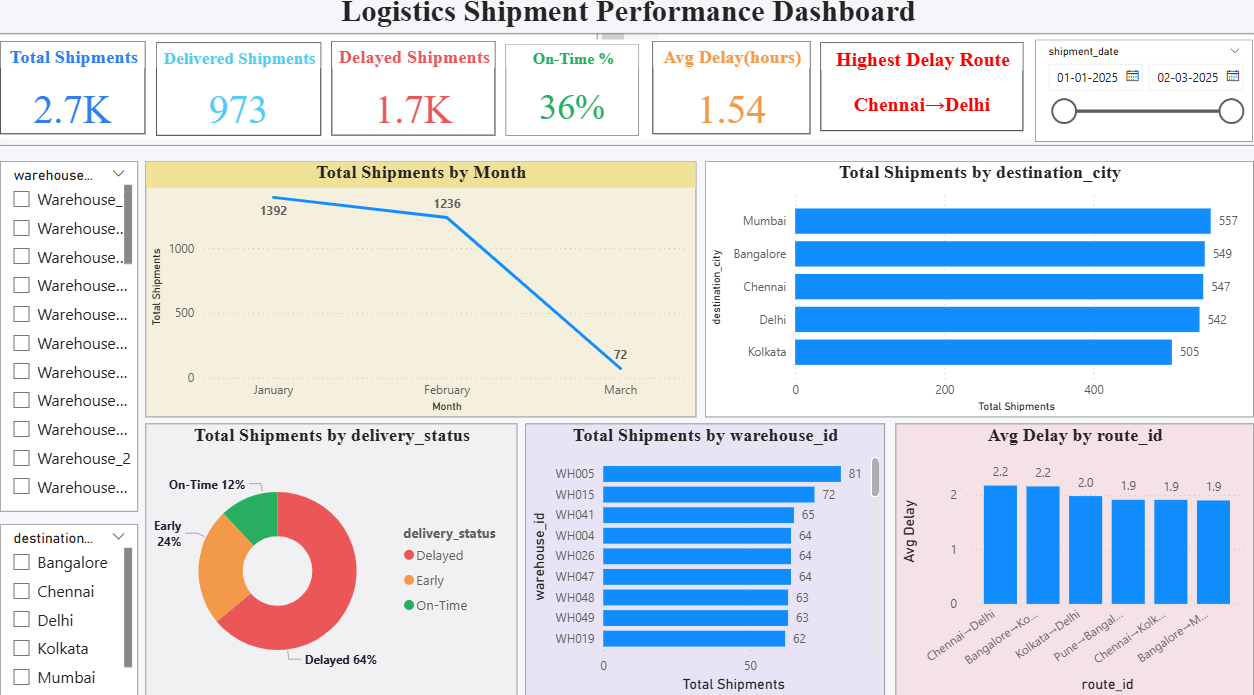

The page's visual inventory and layout, read from the dashboard file:
{"tool":"powerbi","page":{"name":"Page 1","canvas":[1280,720],"ordinal":0},"visuals":[{"type":"cardVisual","box":[0,0,1279.4,52.4],"z":0},{"type":"lineChart","fields":{"Category":["dim_date.shipment_date.Variation.Date Hierarchy.Month"],"Y":["fact_logistics.Total Shipments"]},"box":[152.9,169.6,555.7,258.9],"z":2000},{"type":"donutChart","fields":{"Category":["fact_logistics.delivery_status"],"Y":["fact_logistics.Total Shipments"]},"box":[152.9,434.6,375.5,277.1],"z":3000},{"type":"barChart","fields":{"Y":["fact_logistics.Total Shipments"],"Category":["dim_warehouse.warehouse_name"]},"box":[536,434.6,363.4,277.1],"z":4000},{"type":"columnChart","fields":{"Y":["fact_logistics.Avg Delay Hours"],"Category":["fact_logistics.route_id"]},"box":[910,434.6,361.9,277.1],"z":5000},{"type":"barChart","fields":{"Category":["fact_logistics.destination_city"],"Y":["fact_logistics.Total Shipments"]},"box":[717.7,169.6,554.2,258.9],"z":6000},{"type":"cardVisual","title":"Logistics Shipment Performance Dashboard","fields":{"Data":["fact_logistics.Total Shipments"]},"box":[0,0,1278.8,40.9],"z":7000},{"type":"cardVisual","title":"Logistics Shipment Performance Dashboard","fields":{"Data":["fact_logistics.Total Shipments"]},"box":[0,40.9,1279.5,113.6],"z":7001},{"type":"cardVisual","title":"Total Shipments","fields":{"Data":["fact_logistics.Total Shipments"]},"box":[6.1,48.5,165,101.5],"z":7007},{"type":"cardVisual","title":"Delivered Shipments","fields":{"Data":["fact_logistics.Delivered Shipments"]},"box":[171.1,46.9,169.6,101.5],"z":7009},{"type":"cardVisual","title":"Delayed Shipments","fields":{"Data":["fact_logistics.Delayed Shipments"]},"box":[351.3,46.9,165,101.5],"z":7010},{"type":"cardVisual","title":"On-Time %","fields":{"Data":["fact_logistics.On-Time %"]},"box":[516.3,48.5,163.5,101.5],"z":7011},{"type":"cardVisual","title":"Avg Delay(hours)","fields":{"Data":["fact_logistics.Avg Delay Hours"]},"box":[676.8,48.5,159,101.5],"z":7012},{"type":"slicer","fields":{"Values":["dim_date.shipment_date"]},"box":[1032.7,46.9,239.2,103],"z":7013},{"type":"slicer","fields":{"Values":["dim_warehouse.warehouse_name"]},"box":[6.1,169.6,139.3,354.3],"z":7014},{"type":"slicer","fields":{"Values":["fact_logistics.destination_city"]},"box":[6.1,536,139.3,175.6],"z":7015},{"type":"cardVisual","title":"Highest Delay Route","fields":{"Data":["fact_logistics.Highest Delay Route"]},"box":[835.8,46.9,196.8,101.5],"z":7016}]}

Visuals, with their boxes in screenshot pixels (x1, y1, x2, y2), scaled from the page's 1280x720 canvas onto the 1254x695 screenshot:
cardVisual: bbox=[0, 0, 1253, 51]
lineChart - dim_date.shipment_date.Variation.Date Hierarchy.Month x fact_logistics.Total Shipments: bbox=[150, 164, 694, 414]
donutChart - fact_logistics.delivery_status x fact_logistics.Total Shipments: bbox=[150, 420, 518, 687]
barChart - fact_logistics.Total Shipments x dim_warehouse.warehouse_name: bbox=[525, 420, 881, 687]
columnChart - fact_logistics.Avg Delay Hours x fact_logistics.route_id: bbox=[892, 420, 1246, 687]
barChart - fact_logistics.destination_city x fact_logistics.Total Shipments: bbox=[703, 164, 1246, 414]
"Logistics Shipment Performance Dashboard" cardVisual: bbox=[0, 0, 1253, 39]
"Logistics Shipment Performance Dashboard" cardVisual: bbox=[0, 39, 1253, 149]
"Total Shipments" cardVisual: bbox=[6, 47, 168, 145]
"Delivered Shipments" cardVisual: bbox=[168, 45, 334, 143]
"Delayed Shipments" cardVisual: bbox=[344, 45, 506, 143]
"On-Time %" cardVisual: bbox=[506, 47, 666, 145]
"Avg Delay(hours)" cardVisual: bbox=[663, 47, 819, 145]
slicer - dim_date.shipment_date: bbox=[1012, 45, 1246, 145]
slicer - dim_warehouse.warehouse_name: bbox=[6, 164, 142, 506]
slicer - fact_logistics.destination_city: bbox=[6, 517, 142, 687]
"Highest Delay Route" cardVisual: bbox=[819, 45, 1012, 143]
